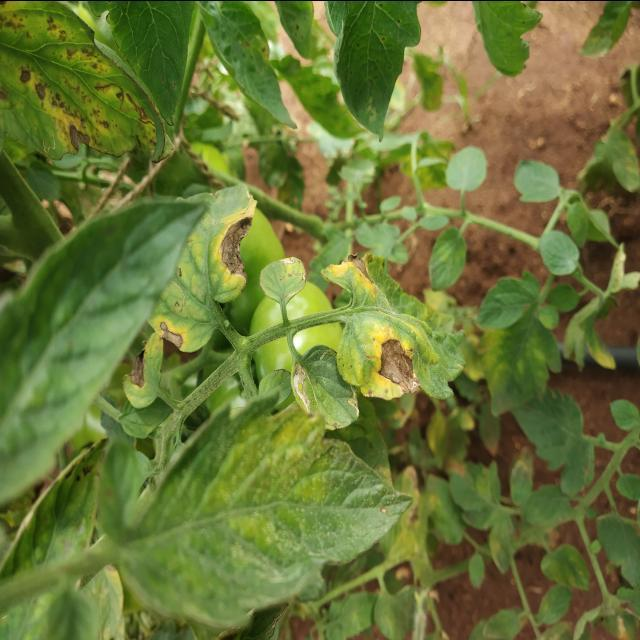Tomato mosaic virus leaf: (1, 6, 166, 168), (334, 250, 468, 400), (150, 181, 256, 354), (120, 331, 166, 408)
